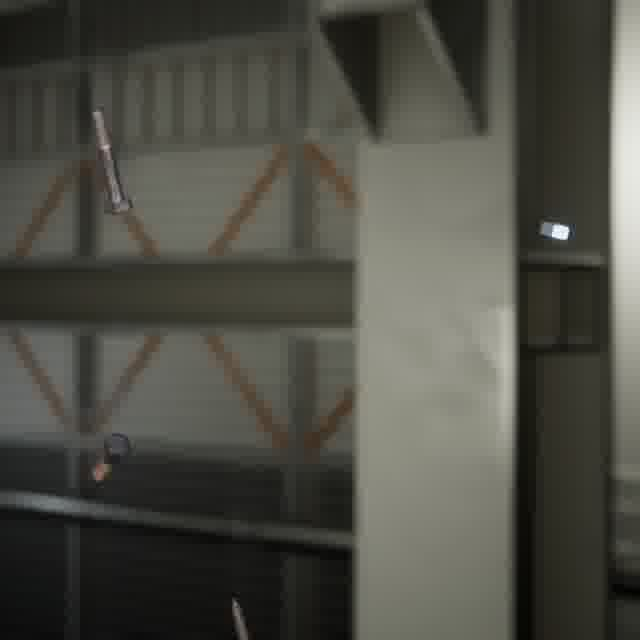bolt: (86, 103, 136, 219), (87, 428, 135, 484), (226, 593, 253, 640)
nut: (535, 216, 577, 245)
